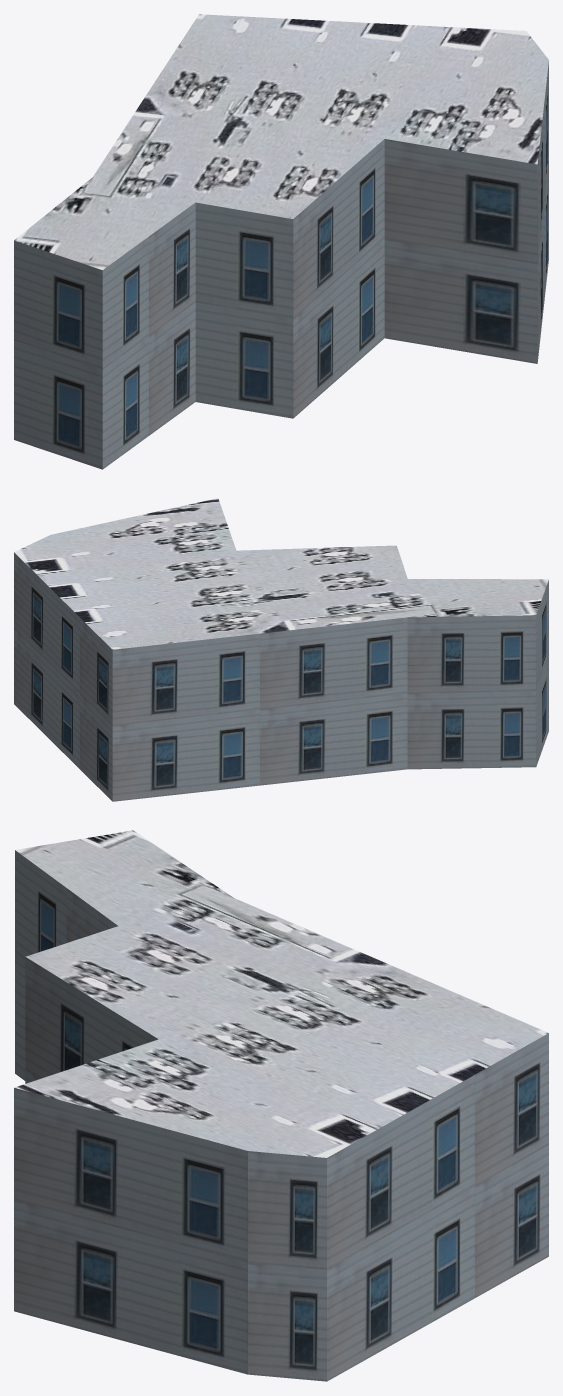
The model's file is ResTex__2699.fbx.
3 views of the same model, one above another, from view 1: azimuth 30°, elevation 25°; view 2: azimuth 150°, elevation 25°; view 3: azimuth 270°, elevation 25° (orthographic). The views are drawn at different scales.
Parts seen in each view (by area): view 1: CityEngineMaterial_18_m, CityEngineMaterial_m; view 2: CityEngineMaterial_18_m, CityEngineMaterial_m; view 3: CityEngineMaterial_18_m, CityEngineMaterial_m.
Boxes of the visible parts, x1,y1,x2,y2 form: CityEngineMaterial_18_m: [14, 62, 548, 469]; CityEngineMaterial_m: [14, 14, 548, 269]; CityEngineMaterial_18_m: [14, 552, 548, 801]; CityEngineMaterial_m: [14, 498, 548, 649]; CityEngineMaterial_18_m: [14, 850, 548, 1381]; CityEngineMaterial_m: [14, 830, 548, 1157].
Bounding box in the file's own units: 18.85 × 6 × 13.01.
2 materials, 2 textured.
